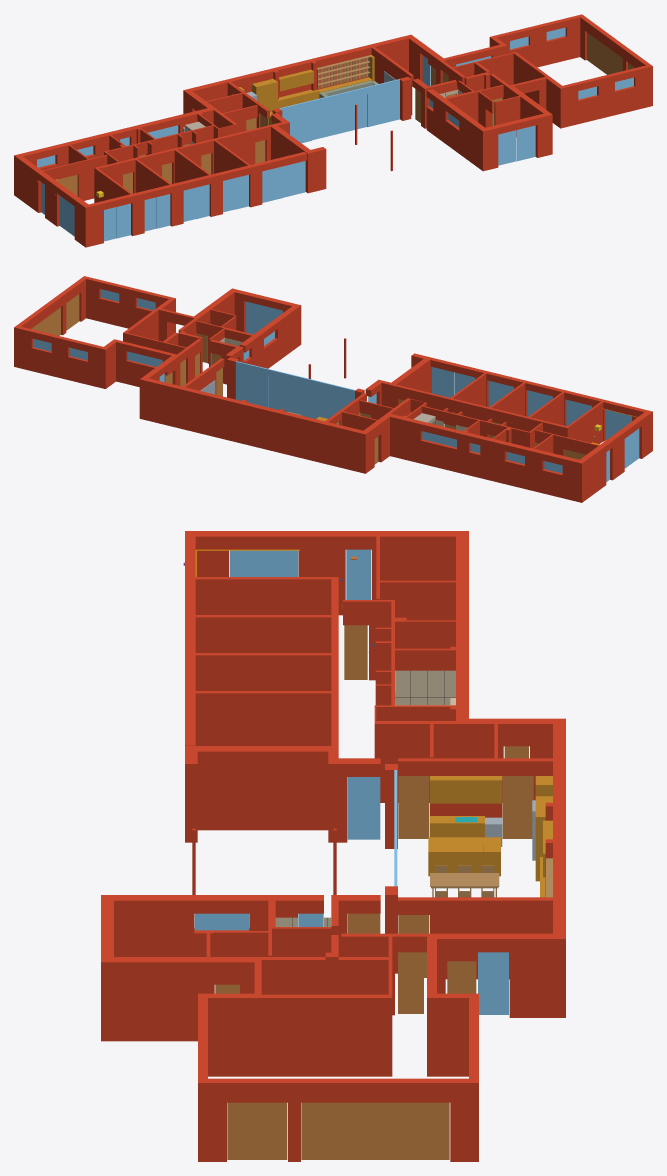
The model's file is ground_floor.glb.
The picture shows the model from 3 angles, top to bottom: view 1: azimuth 30°, elevation 25°; view 2: azimuth 150°, elevation 25°; view 3: azimuth 270°, elevation 25°; orthographic projection. The views are drawn at different scales.
Parts seen in each view (by area): view 1: masonry__W-002__, masonry__W-005__, masonry__W-029__, masonry__W-013__, masonry__W-030__, glazing__W-023__, masonry__W-054__, masonry__W-026__, masonry__W-027__, glazing__WIN-OP28__, glazing__WIN-OP21__ (×2), masonry__W-001__ (+37 smaller); view 2: masonry__W-029__, masonry__W-026__, masonry__W-027__, masonry__W-005__, masonry__W-030__, glazing__W-023__, masonry__W-013__, masonry__W-002__, masonry__W-054__, glazing__WIN-OP28__, masonry__W-025__, masonry__W-067__ (+29 smaller); view 3: masonry__W-049__, masonry__W-066__, masonry__W-067__, masonry__W-063__, masonry__W-030__, door__D-OP50__, masonry__W-054__, masonry__W-044__, masonry__W-060__, masonry__W-056__, masonry__W-031__, masonry__W-034__ (+38 smaller).
Boxes of the visible parts, x1,y1,x2,y2 form: masonry__W-002__: (89, 152, 307, 245); masonry__W-005__: (558, 65, 648, 128); masonry__W-029__: (183, 34, 413, 113); masonry__W-013__: (94, 125, 270, 202); masonry__W-030__: (17, 156, 91, 247); glazing__W-023__: (279, 79, 399, 143); masonry__W-054__: (426, 89, 488, 171); masonry__W-026__: (14, 107, 216, 197); masonry__W-027__: (489, 15, 580, 67); glazing__WIN-OP28__: (312, 94, 367, 140); glazing__WIN-OP21__ (×2): (262, 161, 305, 202); masonry__W-001__: (485, 113, 546, 169); masonry__W-029__: (139, 377, 368, 473); masonry__W-026__: (385, 413, 585, 502); masonry__W-027__: (18, 326, 107, 388); masonry__W-005__: (86, 277, 175, 333); masonry__W-030__: (580, 410, 652, 500); glazing__W-023__: (236, 361, 355, 418); masonry__W-013__: (394, 384, 569, 437); masonry__W-002__: (430, 358, 646, 441); masonry__W-054__: (239, 304, 301, 368); glazing__WIN-OP28__: (268, 376, 322, 418); masonry__W-025__: (112, 339, 173, 386); masonry__W-067__: (14, 276, 88, 367); masonry__W-049__: (185, 746, 338, 830); masonry__W-066__: (261, 994, 392, 1076); masonry__W-067__: (198, 1078, 478, 1161); masonry__W-063__: (101, 957, 261, 1041); masonry__W-030__: (185, 531, 455, 615); door__D-OP50__: (301, 1102, 449, 1159); masonry__W-054__: (101, 895, 323, 956); masonry__W-044__: (195, 691, 331, 745); masonry__W-060__: (427, 933, 552, 1017); masonry__W-056__: (398, 897, 552, 979); masonry__W-031__: (195, 577, 331, 614); masonry__W-034__: (195, 615, 331, 652).
Bounding box in the file's own units: 45.1 × 3.05 × 16.05.
